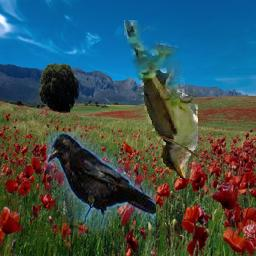Crow: (46, 132, 156, 236)
Cuckoo: (124, 21, 198, 180)
